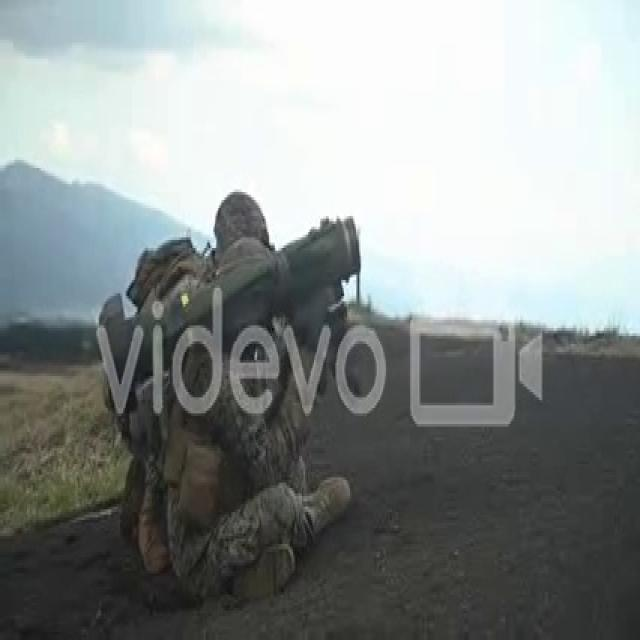bazooka: (88, 205, 368, 433)
